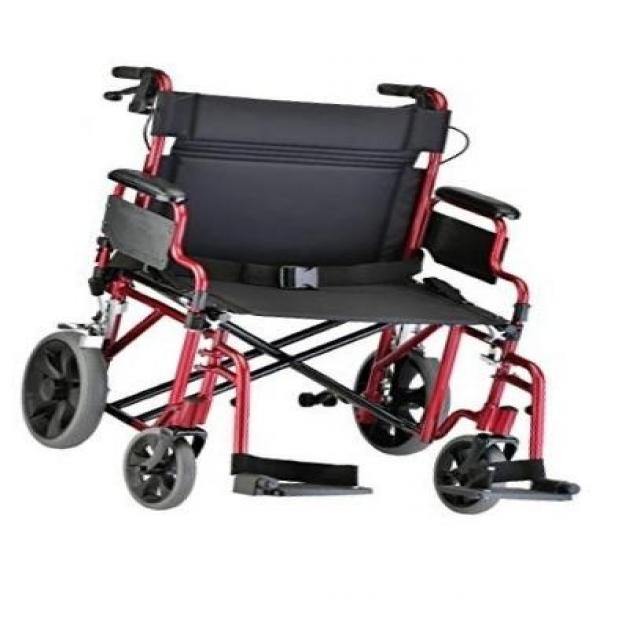wheelchair: (12, 60, 593, 527)
